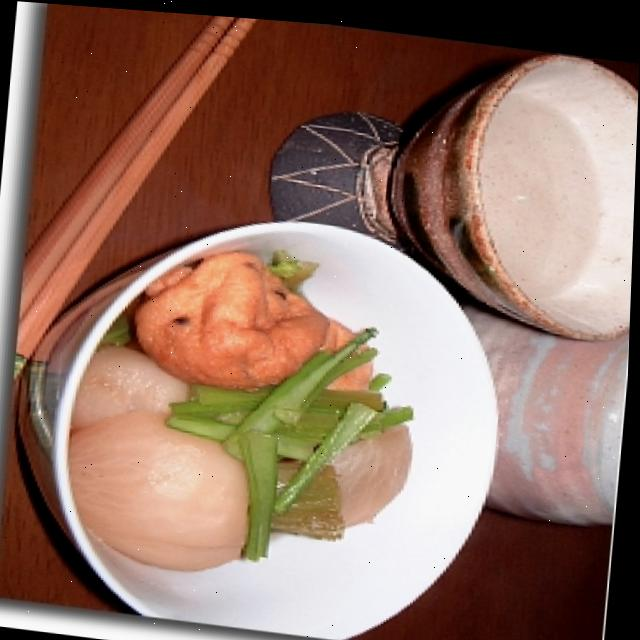熟制海鲜: (58, 215, 461, 603)
